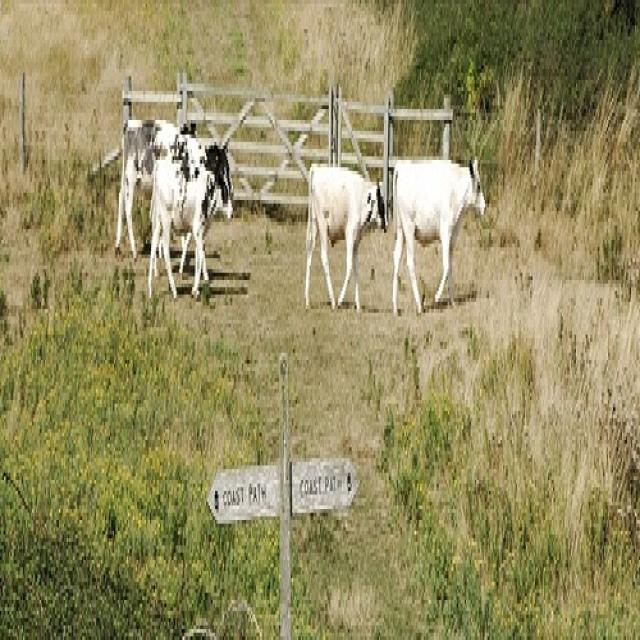cow: (387, 149, 485, 313), (144, 127, 232, 309), (302, 164, 385, 312), (113, 113, 183, 258)
